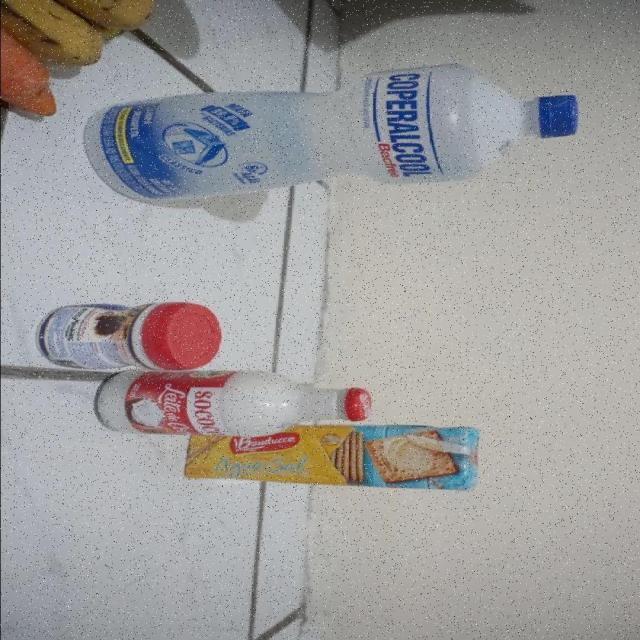AlcoholBottle: (84, 65, 579, 206)
Banana: (10, 0, 151, 41)
Carrot: (0, 47, 68, 120)
CoconutMilk: (94, 373, 370, 436)
Cracker: (189, 436, 477, 490)
Yeast: (36, 302, 225, 369)
